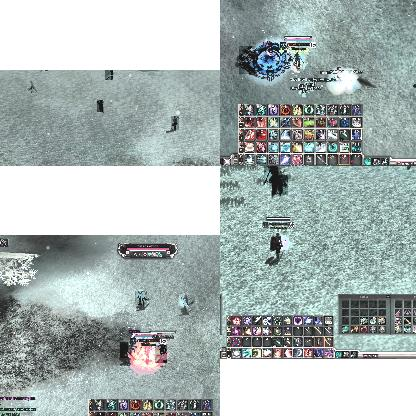caliana: (239, 46, 255, 74), (272, 175, 288, 195), (179, 295, 195, 309), (264, 166, 277, 183), (155, 345, 167, 363), (135, 291, 147, 305), (120, 342, 128, 358), (171, 116, 179, 130), (27, 80, 35, 94), (105, 70, 113, 80), (97, 100, 103, 112)
